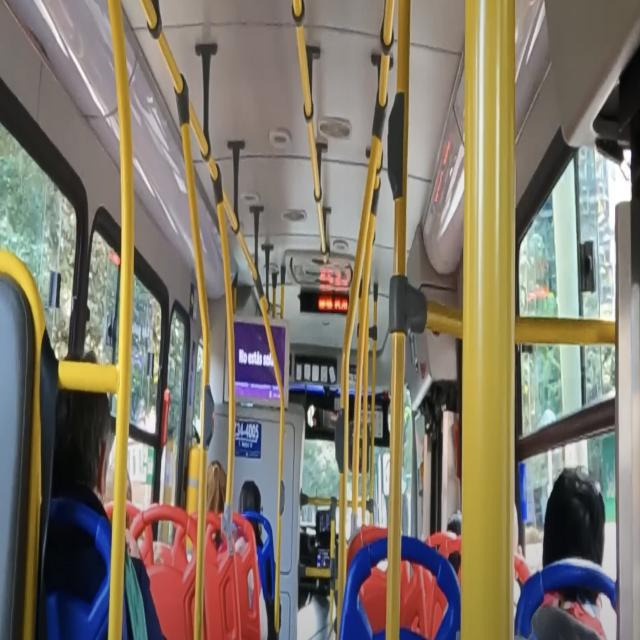Persona: (53, 396, 111, 509), (542, 469, 604, 568), (46, 521, 100, 599), (126, 539, 166, 639), (558, 586, 600, 618), (208, 461, 227, 512), (239, 481, 261, 515), (265, 600, 278, 639), (250, 520, 263, 555)
